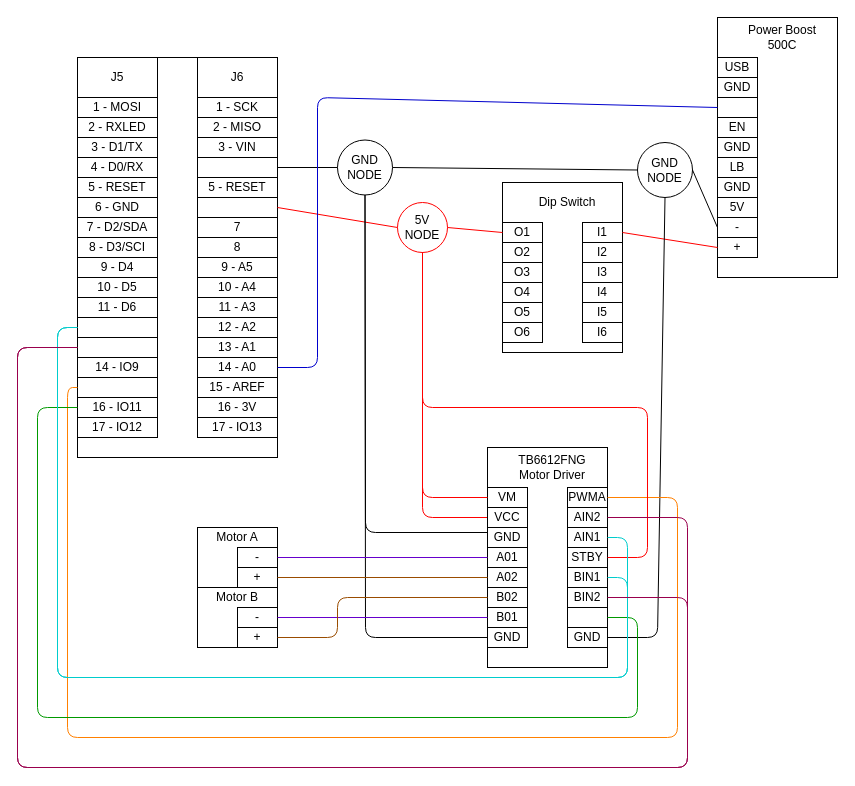
This 855x786 diagram has some shape labels left out. The shapes that lost their labels are listed below. From the top down, each one's centre as x and y in pixels, then its label:
the point at 737,107: BAT
the point at 237,167: 4 - GND
the point at 237,207: 6 - 5V
the point at 117,327: 12 - D7
the point at 117,347: 13 - IO8
the point at 117,387: 15 - IO10
the point at 587,617: PWMB
